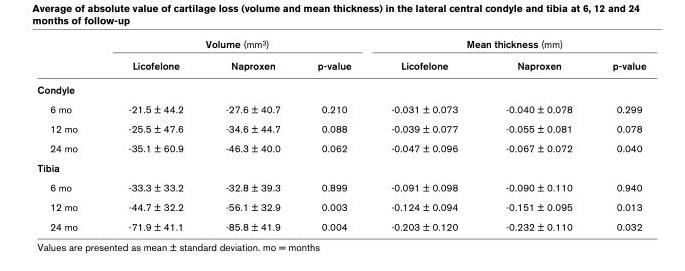table: (36, 37, 645, 232)
table column: (370, 37, 481, 232), (481, 37, 591, 232), (102, 37, 203, 232), (203, 37, 298, 232), (298, 37, 370, 232), (36, 37, 102, 232), (591, 37, 645, 232)
table column header: (36, 37, 645, 77)
table projected row header: (36, 77, 645, 98), (36, 157, 645, 177)
table row: (36, 54, 645, 77), (36, 77, 645, 98), (36, 98, 645, 118), (36, 118, 645, 138), (36, 157, 645, 177), (36, 196, 645, 216), (36, 138, 645, 157), (36, 177, 645, 196), (36, 37, 645, 54), (36, 216, 645, 232)
table spanning cell: (370, 37, 645, 54), (102, 37, 370, 54)
